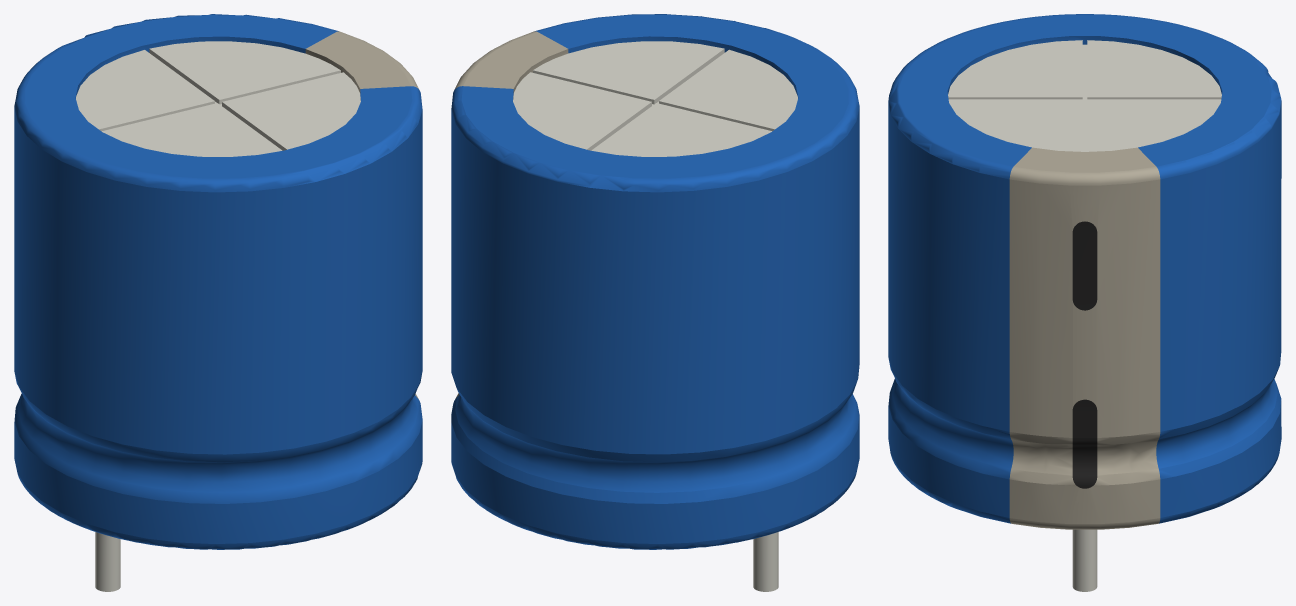
File: kc-cp_radial_d8.0mm_p5.00mm.glb
3 views of the same model, side by side, from view 1: azimuth 30°, elevation 25°; view 2: azimuth 150°, elevation 25°; view 3: azimuth 270°, elevation 25° (orthographic). The views are drawn at different scales.
Visible parts, largest first — view 1: 0_0.16666666666666666_0.5_0, 0.6666666666666666_0.6666666666666666_0.5833333333333334_0.8, 0.4166666666666667_0.4166666666666667_0.3333333333333333_0; view 2: 0_0.16666666666666666_0.5_0, 0.6666666666666666_0.6666666666666666_0.5833333333333334_0.8, 0.4166666666666667_0.4166666666666667_0.3333333333333333_0; view 3: 0_0.16666666666666666_0.5_0, 0.4166666666666667_0.4166666666666667_0.3333333333333333_0, 0.6666666666666666_0.6666666666666666_0.5833333333333334_0.8, 0_0_0_0.
Boxes of the visible parts, x1,y1,x2,y2 form: 0_0.16666666666666666_0.5_0: (14, 14, 422, 549); 0.6666666666666666_0.6666666666666666_0.5833333333333334_0.8: (76, 41, 360, 591); 0.4166666666666667_0.4166666666666667_0.3333333333333333_0: (305, 31, 418, 398); 0_0.16666666666666666_0.5_0: (451, 14, 859, 549); 0.6666666666666666_0.6666666666666666_0.5833333333333334_0.8: (513, 41, 797, 591); 0.4166666666666667_0.4166666666666667_0.3333333333333333_0: (454, 31, 568, 398); 0_0.16666666666666666_0.5_0: (888, 14, 1281, 523); 0.4166666666666667_0.4166666666666667_0.3333333333333333_0: (1009, 147, 1160, 529); 0.6666666666666666_0.6666666666666666_0.5833333333333334_0.8: (948, 40, 1221, 591); 0_0_0_0: (1072, 221, 1097, 488).
Bounding box in the file's own units: 0.8 × 1 × 0.7998.
